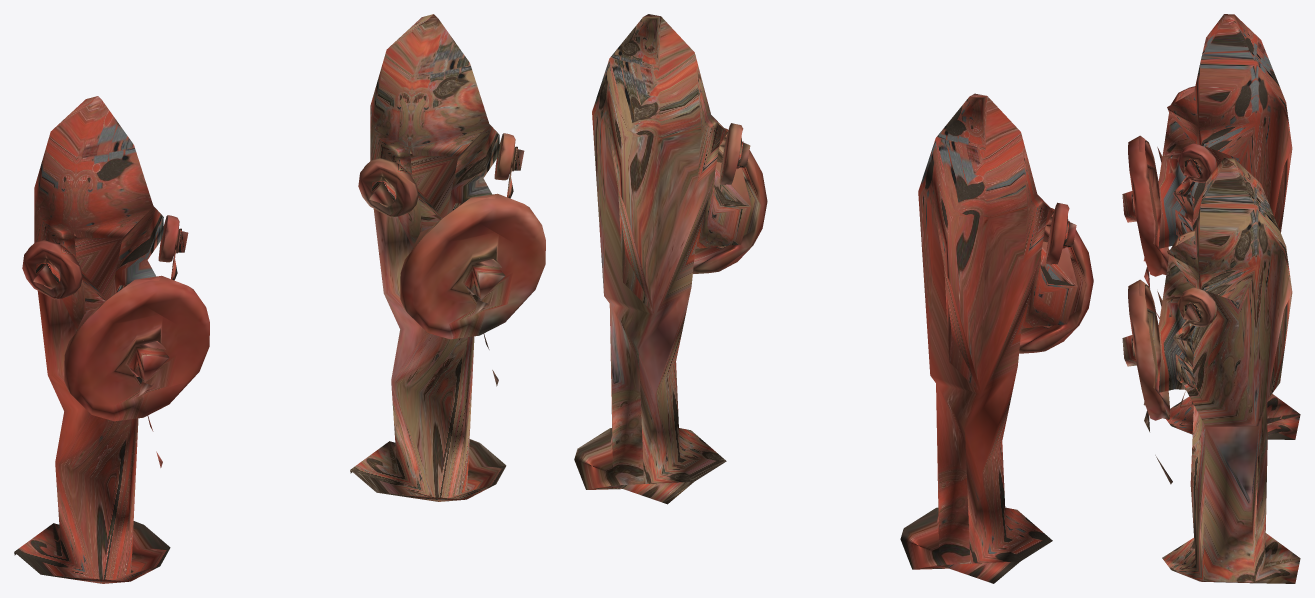
File: fire_hydrant_lo.glb
3 views of the same model, side by side, from view 1: azimuth 30°, elevation 25°; view 2: azimuth 150°, elevation 25°; view 3: azimuth 270°, elevation 25° (orthographic). The views are drawn at different scales.
Parts seen in each view (by area): view 1: fire_hydrant_aged, fire_hydrant, fire_hydrant_cap_01_aged, fire_hydrant_cap_01, fire_hydrant_cap_03, fire_hydrant_cap_03_aged, fire_hydrant_cap_02_aged, fire_hydrant_cap_02; view 2: fire_hydrant, fire_hydrant_aged, fire_hydrant_cap_01, fire_hydrant_cap_01_aged, fire_hydrant_cap_03_aged, fire_hydrant_cap_03; view 3: fire_hydrant_aged, fire_hydrant, fire_hydrant_cap_01_aged, fire_hydrant_cap_01, fire_hydrant_chain_aged, fire_hydrant_cap_02_aged, fire_hydrant_cap_02, fire_hydrant_chain.
Boxes of the visible parts, box(x1,y1,x2,y2) form: fire_hydrant_aged: box(350, 14, 506, 501); fire_hydrant: box(14, 96, 170, 583); fire_hydrant_cap_01_aged: box(400, 193, 545, 339); fire_hydrant_cap_01: box(64, 275, 209, 421); fire_hydrant_cap_03: box(22, 240, 82, 299); fire_hydrant_cap_03_aged: box(358, 158, 418, 217); fire_hydrant_cap_02_aged: box(494, 133, 524, 180); fire_hydrant_cap_02: box(158, 215, 188, 262); fire_hydrant: box(900, 93, 1077, 583); fire_hydrant_aged: box(574, 14, 751, 504); fire_hydrant_cap_01: box(1019, 208, 1093, 353); fire_hydrant_cap_01_aged: box(693, 128, 767, 273); fire_hydrant_cap_03_aged: box(719, 123, 750, 185); fire_hydrant_cap_03: box(1046, 202, 1076, 264); fire_hydrant_aged: box(1157, 158, 1300, 583); fire_hydrant: box(1157, 14, 1300, 439); fire_hydrant_cap_01_aged: box(1122, 279, 1170, 420); fire_hydrant_cap_01: box(1122, 135, 1168, 276); fire_hydrant_chain_aged: box(1143, 299, 1202, 484); fire_hydrant_cap_02_aged: box(1177, 287, 1217, 327); fire_hydrant_cap_02: box(1177, 143, 1217, 183); fire_hydrant_chain: box(1143, 155, 1195, 318).
Bounding box in the file's own units: 0.8738 × 0.7989 × 0.3137.
Materials: 2 (2 with a texture image).
